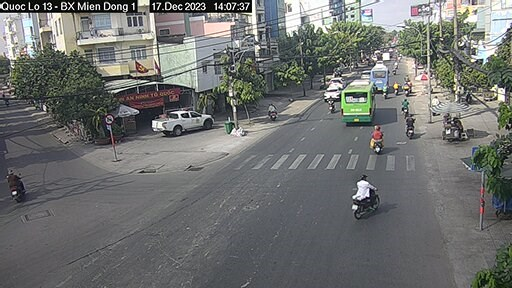bus: (342, 79, 377, 127), (370, 63, 392, 93)
car: (147, 109, 215, 136), (320, 86, 342, 102)
motorbike: (347, 178, 386, 221), (6, 172, 28, 203), (367, 128, 384, 154), (406, 113, 421, 140), (399, 97, 411, 113)
